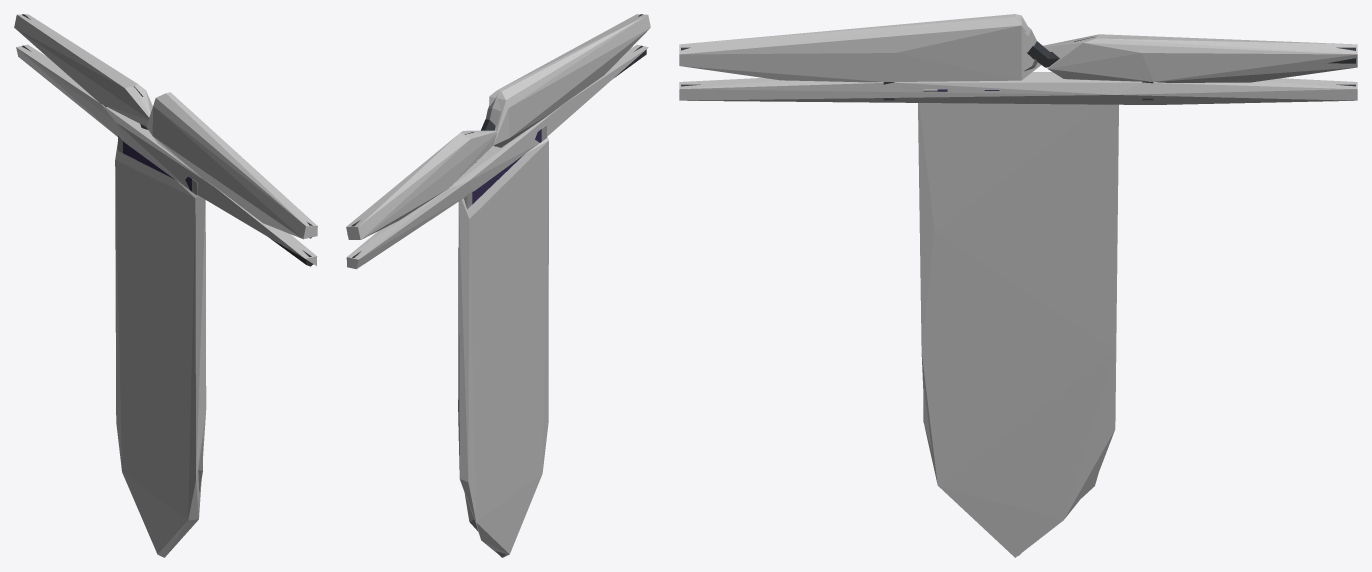
File: SM_Bld_Flag_Wall_01.fbx
The picture shows the model from 3 angles, left to right: view 1: azimuth 30°, elevation 25°; view 2: azimuth 150°, elevation 25°; view 3: azimuth 270°, elevation 25°; orthographic projection. The views are drawn at different scales.
Parts seen in each view (by area): view 1: SM_Bld_Flag_Wall_01_ConvexHulls, SM_Bld_Flag_Wall_01; view 2: SM_Bld_Flag_Wall_01_ConvexHulls, SM_Bld_Flag_Wall_01; view 3: SM_Bld_Flag_Wall_01_ConvexHulls, SM_Bld_Flag_Wall_01.
Part boxes in pixels (left/top/right/bottom): SM_Bld_Flag_Wall_01_ConvexHulls: left=14, top=14, right=317, bottom=557; SM_Bld_Flag_Wall_01: left=22, top=14, right=313, bottom=492; SM_Bld_Flag_Wall_01_ConvexHulls: left=346, top=14, right=650, bottom=557; SM_Bld_Flag_Wall_01: left=347, top=14, right=646, bottom=557; SM_Bld_Flag_Wall_01_ConvexHulls: left=679, top=14, right=1357, bottom=557; SM_Bld_Flag_Wall_01: left=681, top=18, right=1355, bottom=555.
Size of the model in its own units: 11.72 by 251 by 223.
2 materials, 1 textured.
